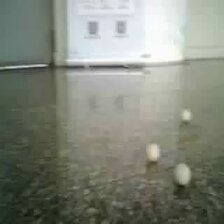w: (174, 162, 189, 184), (145, 144, 160, 161), (181, 110, 191, 121)
